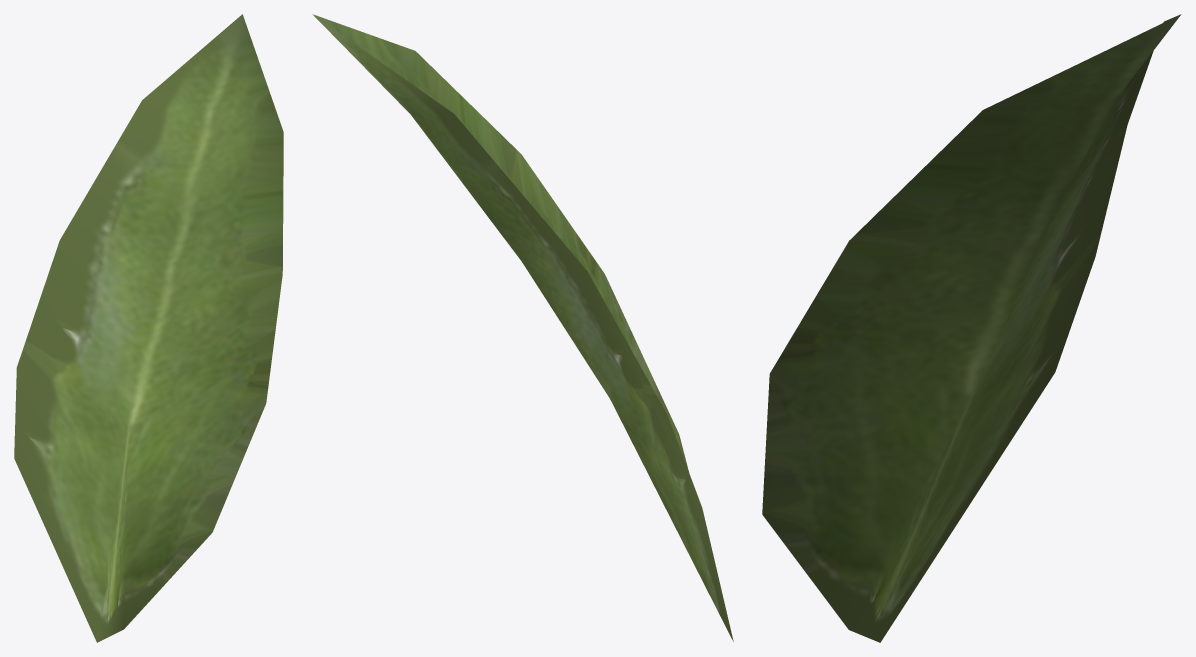
The model's file is chamomile_rightleaf.glb.
3 renders of one model, left to right at view 1: azimuth 30°, elevation 25°; view 2: azimuth 150°, elevation 25°; view 3: azimuth 270°, elevation 25°, orthographic. The views are drawn at different scales.
Parts seen in each view (by area): view 1: Chamomile_Bush3; view 2: Chamomile_Bush3; view 3: Chamomile_Bush3.
Boxes of the visible parts, x1,y1,x2,y2 form: Chamomile_Bush3: [14, 14, 283, 642]; Chamomile_Bush3: [312, 14, 733, 641]; Chamomile_Bush3: [762, 14, 1181, 642].
Size of the model in its own units: 0.0282 by 0.0507 by 0.0236.
1 material, 1 textured.
